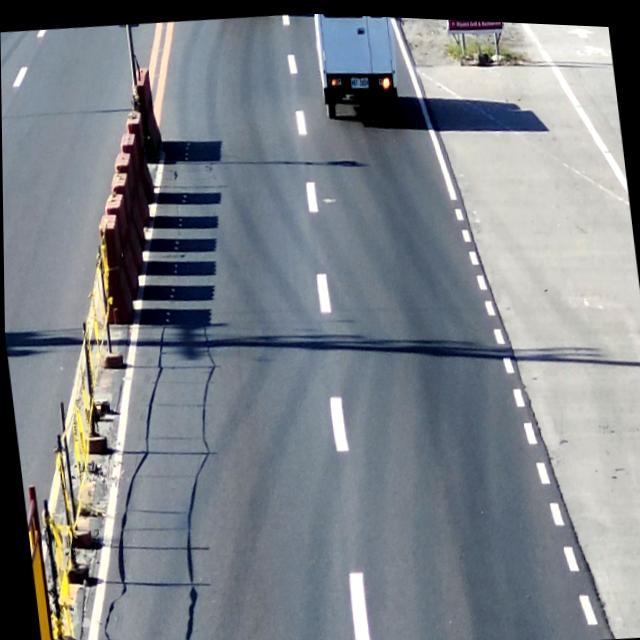Car: (307, 11, 405, 121)
License-Plate: (346, 67, 373, 90)
